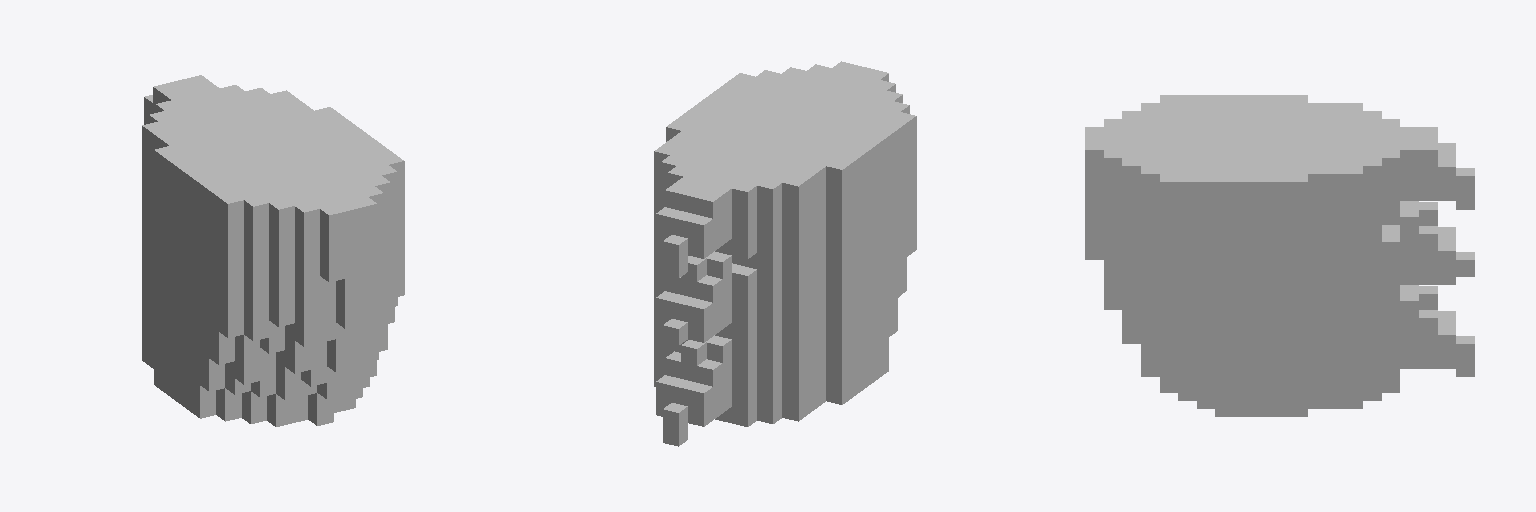
File: LizardMan BOSS tail 0.obj
3 views of the same model, side by side, from view 1: azimuth 30°, elevation 25°; view 2: azimuth 150°, elevation 25°; view 3: azimuth 270°, elevation 25° (orthographic).
Bounding box in the file's own units: 11 × 14 × 21.